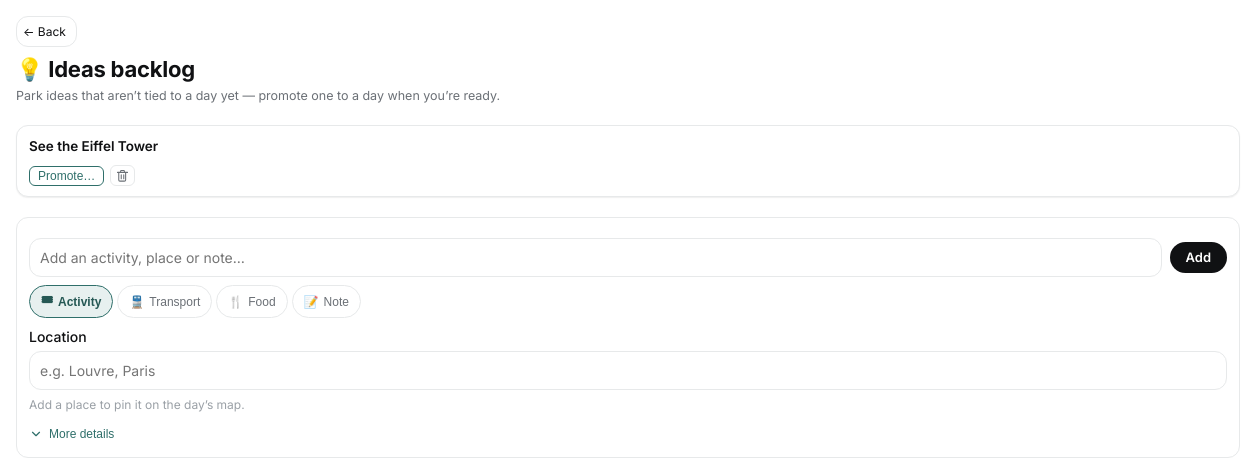
BacklogPage › promote to day › clicking Promote… shows the day picker
This screenshot has width=1257, height=476.
Check: the text "See the Eiffel Tower" is shown, box [29, 136, 158, 157]
Click the button with aria-label "Promote See the Eiffel Tower".
click(67, 176)  # box [29, 166, 104, 186]
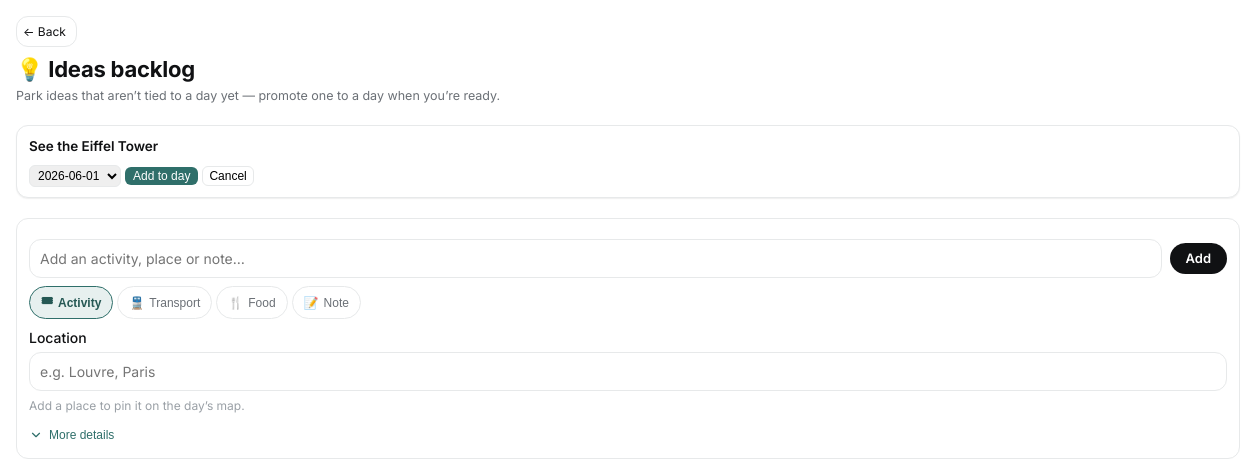
Check: the dropdown named "Target day" is shown, box [29, 165, 121, 187]
